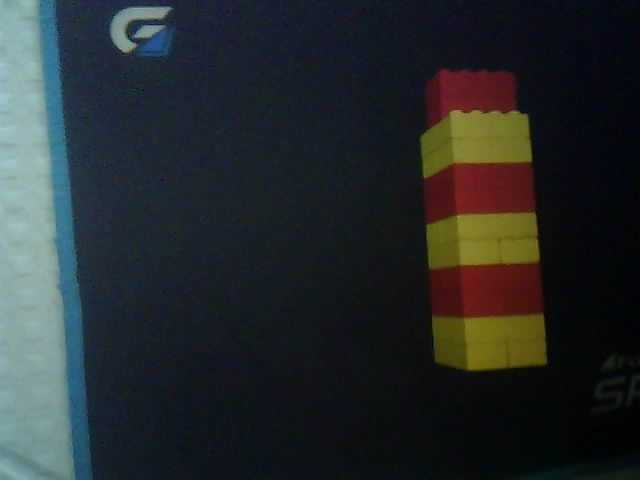lego: (414, 68, 548, 372)
